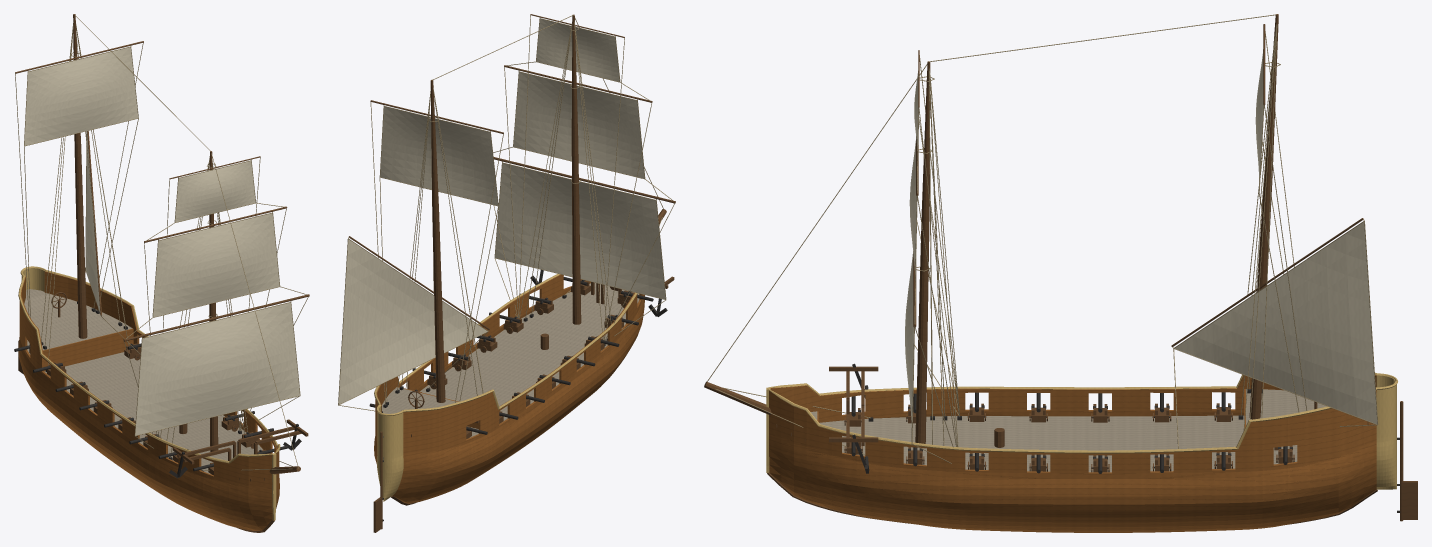
The picture shows the model from 3 angles, left to right: view 1: azimuth 30°, elevation 25°; view 2: azimuth 150°, elevation 25°; view 3: azimuth 270°, elevation 25°; orthographic projection. The views are drawn at different scales.
Visible parts, largest first — view 1: lod1_fore_square_00, lod1_hull_shell_starboard, lod1_fore_square_01, lod1_main_square_00, lod1_main_deck, lod1_fore_square_02, lod1_castle_deck_0, lod1_hull_shell_port, lod1_main, lod1_castle_bulkhead_0_1, lod1_main_lateen_01, lod1_gunwale_starboard (+7 smaller); view 2: lod1_fore_square_00, lod1_hull_shell_starboard, lod1_main_lateen_01, lod1_fore_square_01, lod1_main_deck, lod1_main_square_00, lod1_fore_square_02, lod1_hull_shell_port, lod1_main, lod1_fore, lod1_stern_closure, lod1_castle_deck_0 (+2 smaller); view 3: lod1_hull_shell_port, lod1_main_lateen_01, lod1_main_deck, lod1_hull_shell_starboard, lod1_fore, lod1_main, lod1_stern_closure, lod1_gunwale_port, lod1_castle_deck_0, lod1_gunwale_starboard, lod1_fore_square_00.
Part boxes in pixels (x1,y1,x2,y2): lod1_fore_square_00: (135,302,299,435); lod1_hull_shell_starboard: (18,276,272,530); lod1_fore_square_01: (153,213,279,317); lod1_main_square_00: (24,47,138,145); lod1_main_deck: (27,340,262,473); lod1_fore_square_02: (175,161,255,222); lod1_castle_deck_0: (24,289,132,350); lod1_hull_shell_port: (44,271,279,508); lod1_main: (73,14,87,338); lod1_castle_bulkhead_0_1: (42,328,133,371); lod1_main_lateen_01: (85,131,100,312); lod1_gunwale_starboard: (18,275,272,463); lod1_fore_square_00: (495,163,665,299); lod1_hull_shell_starboard: (392,292,644,503); lod1_main_lateen_01: (338,239,487,404); lod1_fore_square_01: (513,72,644,178); lod1_main_deck: (383,283,639,459); lod1_main_square_00: (380,106,498,205); lod1_fore_square_02: (536,19,619,81); lod1_hull_shell_port: (374,274,590,463); lod1_main: (430,80,445,402); lod1_fore: (571,14,581,324); lod1_stern_closure: (377,406,403,501); lod1_castle_deck_0: (382,387,457,437); lod1_hull_shell_port: (769,390,1376,532); lod1_main_lateen_01: (1175,222,1377,423); lod1_main_deck: (819,415,1297,472); lod1_hull_shell_starboard: (770,375,1376,422); lod1_fore: (915,61,930,443); lod1_main: (1249,14,1278,419); lod1_stern_closure: (1376,375,1396,489); lod1_gunwale_port: (768,387,1377,453); lod1_castle_deck_0: (1246,389,1326,425); lod1_gunwale_starboard: (768,372,1376,395); lod1_fore_square_00: (905,251,913,427).
Size of the model in its own units: 11.68 by 24.4 by 30.52.
Materials: 7 (7 with a texture image).
